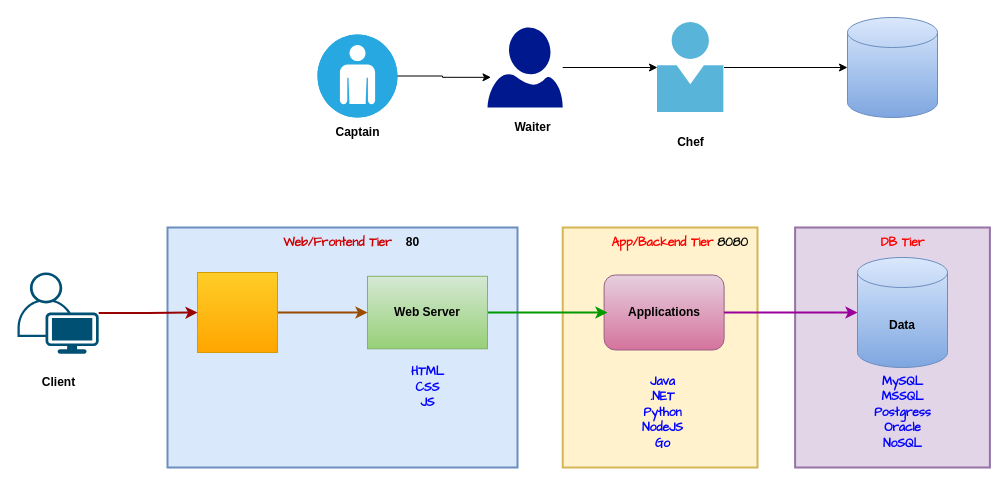
Image size: 1008x486. Some labels were removed from this diagram. Each missing label, with the centre of its shape:
"Public Load Balancer" goes at (237,312).
"Raw Items" goes at (892,67).
